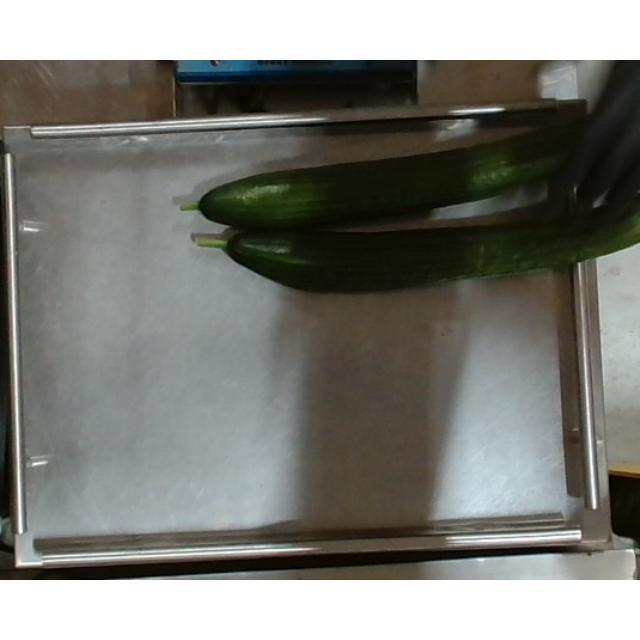cucumber: (192, 108, 640, 226), (232, 206, 640, 290)
